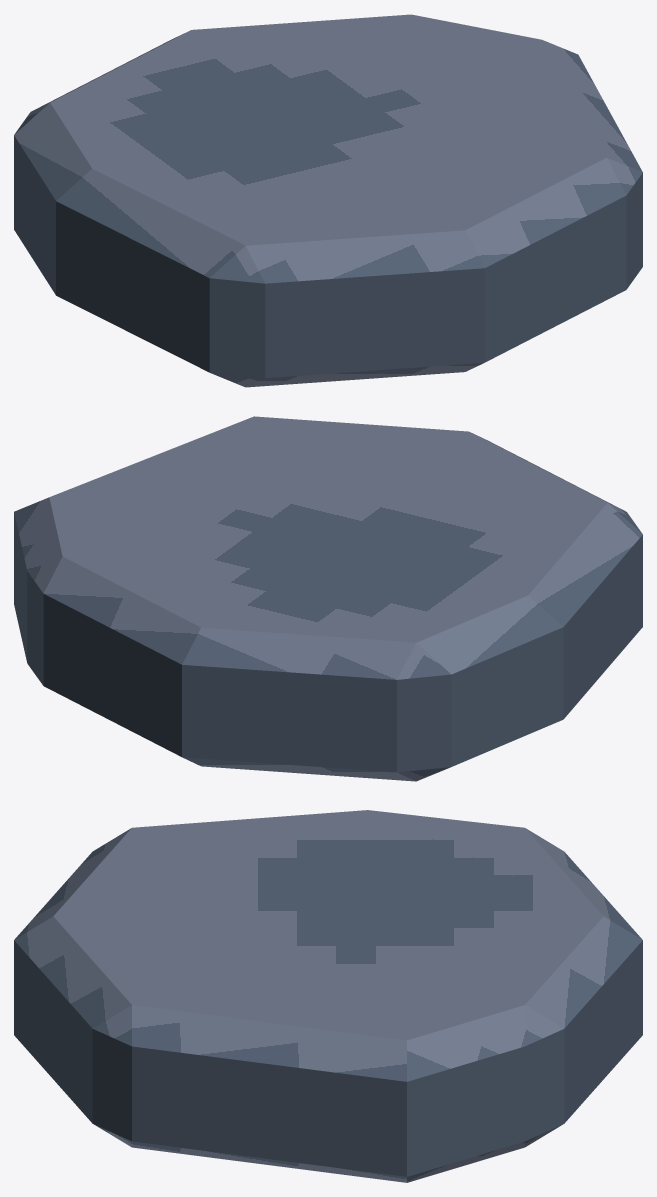
Rendered from rock.gltf.
The picture shows the model from 3 angles, top to bottom: view 1: azimuth 30°, elevation 25°; view 2: azimuth 150°, elevation 25°; view 3: azimuth 270°, elevation 25°; orthographic projection. The views are drawn at different scales.
Parts seen in each view (by area): view 1: beveled_cuboid; view 2: beveled_cuboid; view 3: beveled_cuboid.
Boxes of the visible parts, bbox=[...] form: beveled_cuboid: bbox=[14, 14, 642, 387]; beveled_cuboid: bbox=[14, 416, 642, 781]; beveled_cuboid: bbox=[14, 810, 642, 1182].
Size of the model in its own units: 0.25 by 0.0625 by 0.25.
1 material, 1 textured.
